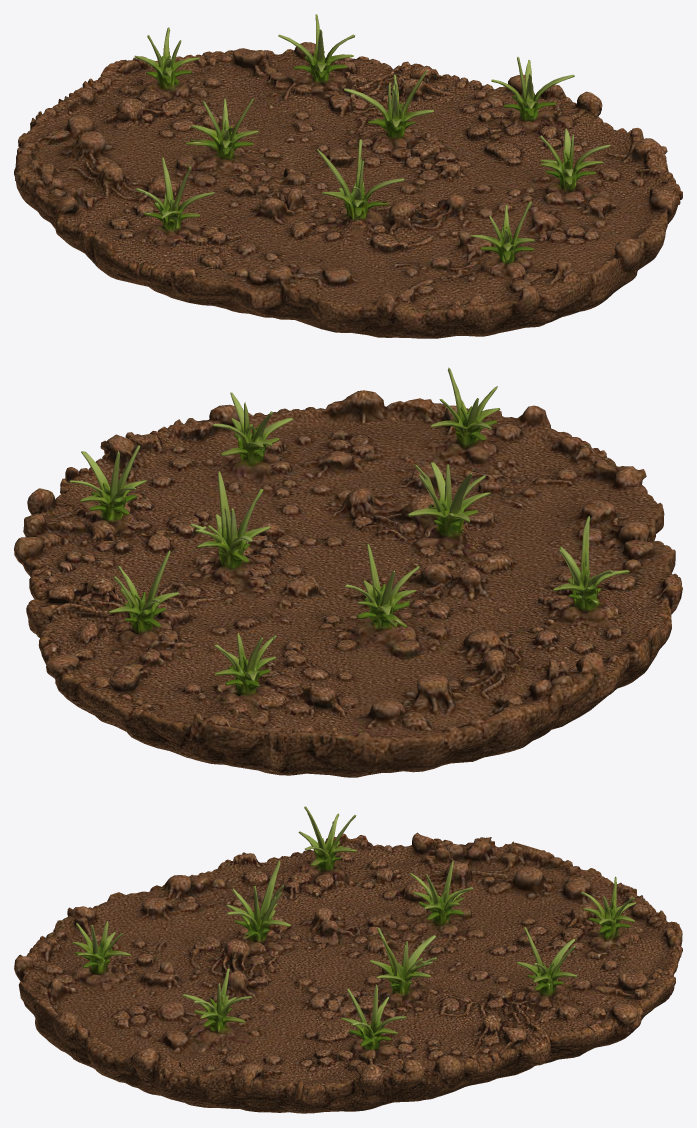
3 renders of one model, top to bottom at view 1: azimuth 30°, elevation 25°; view 2: azimuth 150°, elevation 25°; view 3: azimuth 270°, elevation 25°, orthographic. The views are drawn at different scales.
Parts seen in each view (by area): view 1: tripo_node_b4741324-aa23-4afb-95ff-154b393fe5f7; view 2: tripo_node_b4741324-aa23-4afb-95ff-154b393fe5f7; view 3: tripo_node_b4741324-aa23-4afb-95ff-154b393fe5f7.
Boxes of the visible parts, box(x1,y1,x2,y2) form: tripo_node_b4741324-aa23-4afb-95ff-154b393fe5f7: box(14, 14, 682, 338); tripo_node_b4741324-aa23-4afb-95ff-154b393fe5f7: box(14, 367, 682, 777); tripo_node_b4741324-aa23-4afb-95ff-154b393fe5f7: box(14, 806, 682, 1113).
Bounding box in the file's own units: 0.902 × 0.1897 × 1.02.
Materials: 1 (1 with a texture image).
